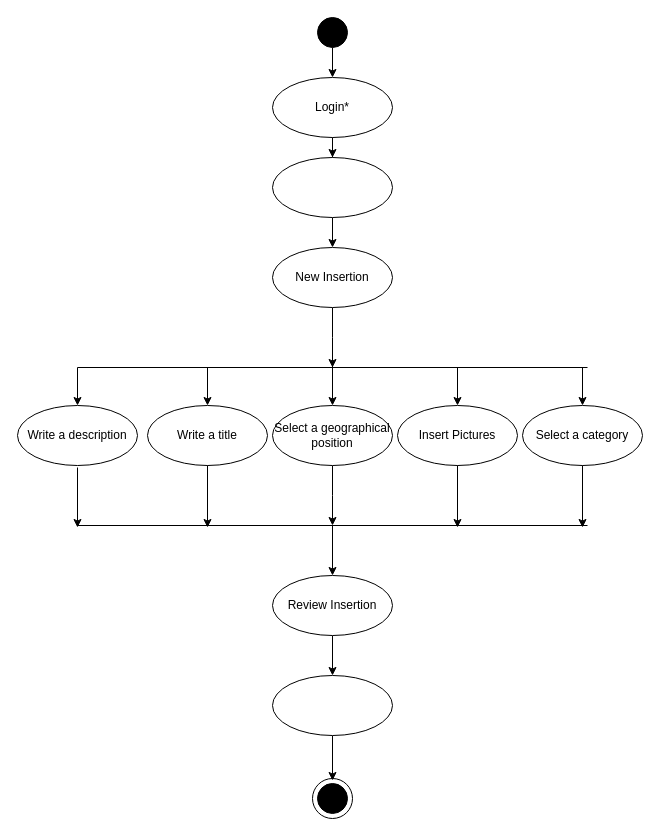
This 660x836 diagram has some shape labels left out. Here are the shapes that lost their labels. From the top down, the centre of each, then its label:
At (x=332, y=187): "View profile".
At (x=332, y=705): "Insertion Published".
